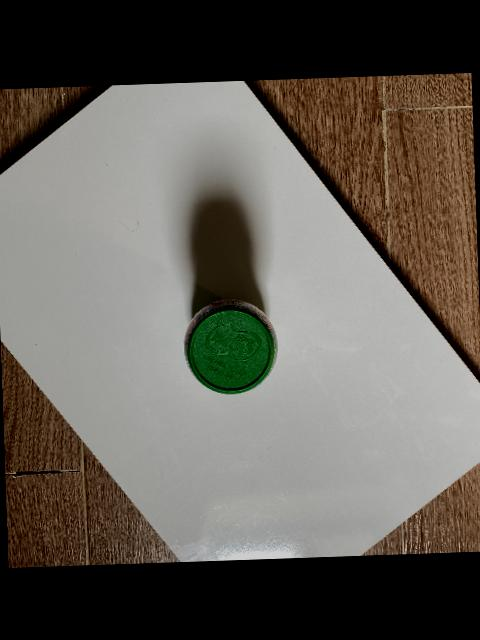milo: (184, 298, 279, 394)
